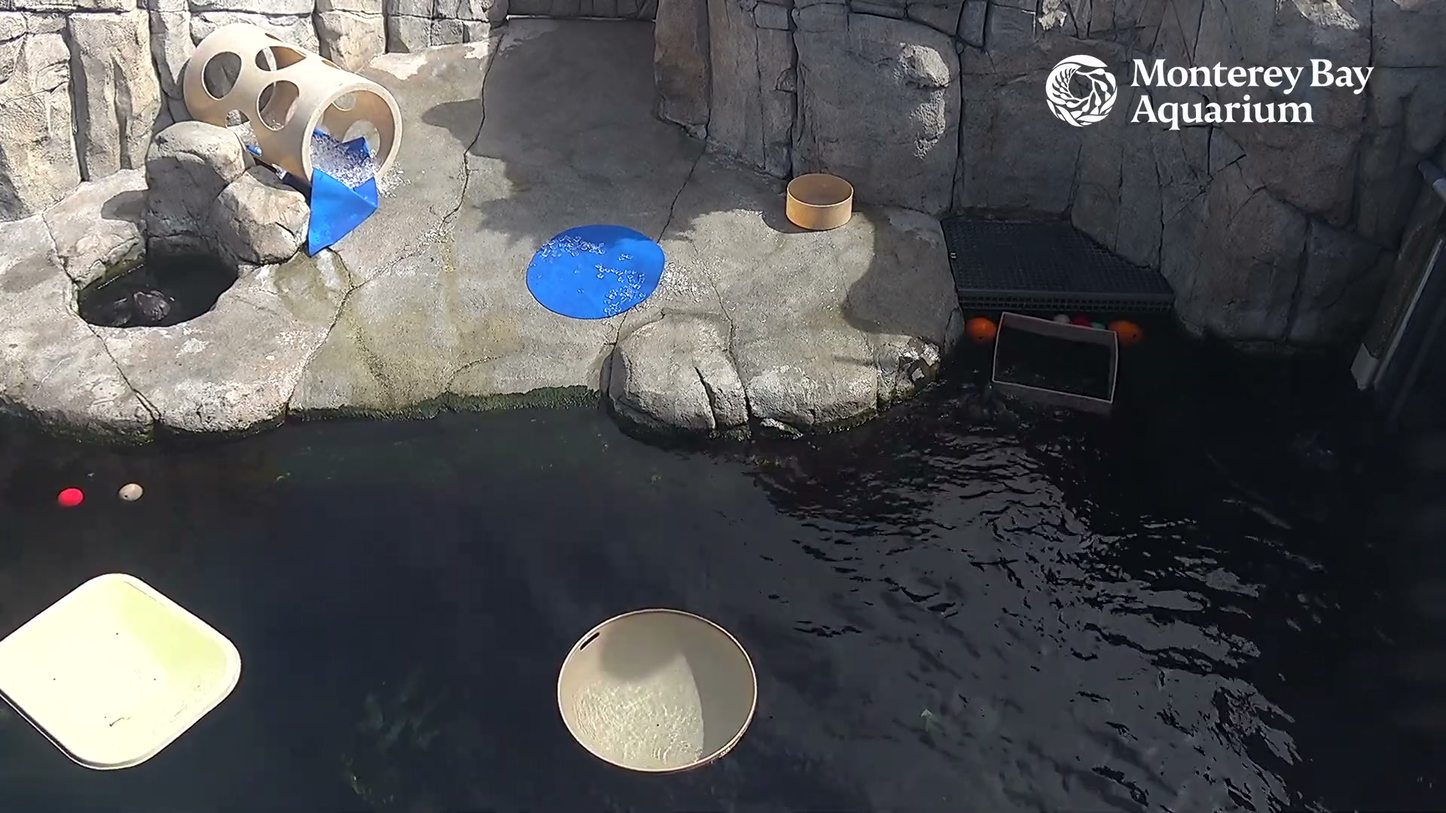Southern Sea Otter: (102, 276, 185, 330)
